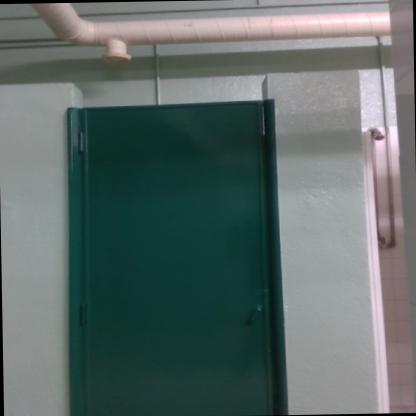closed: (41, 75, 298, 408)
